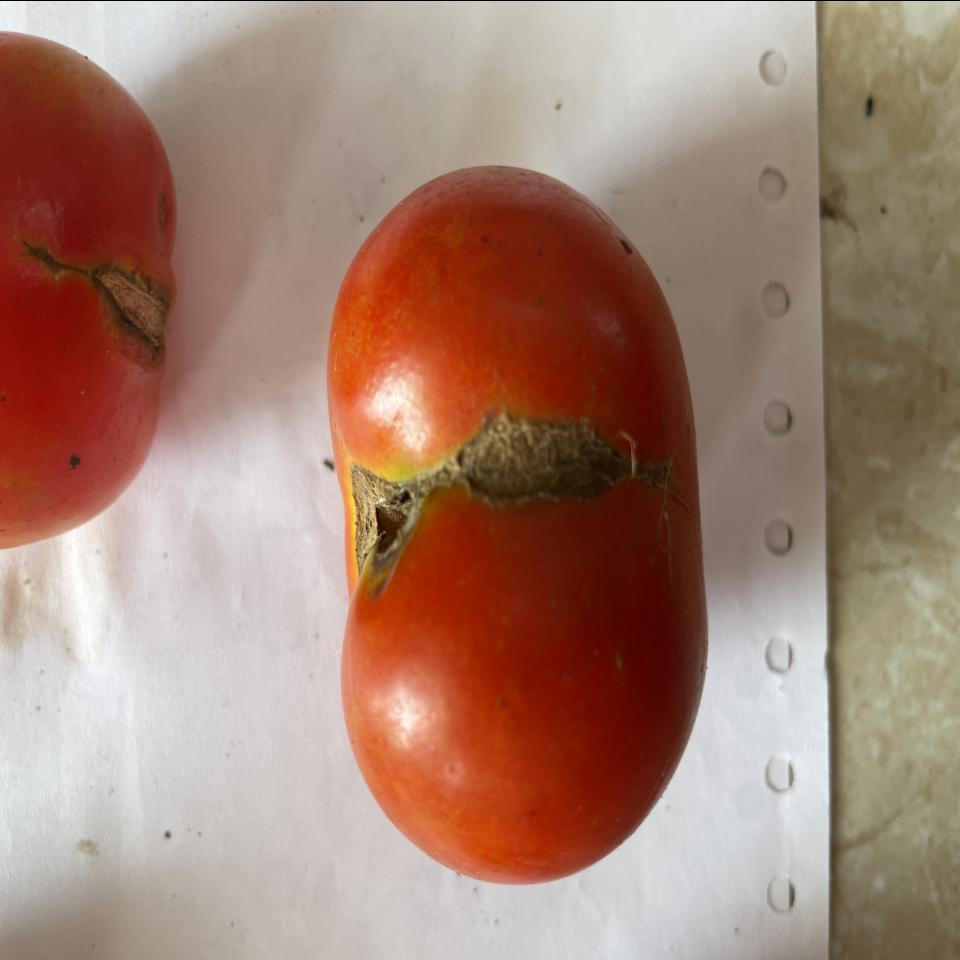Cracking: (335, 403, 670, 586)
